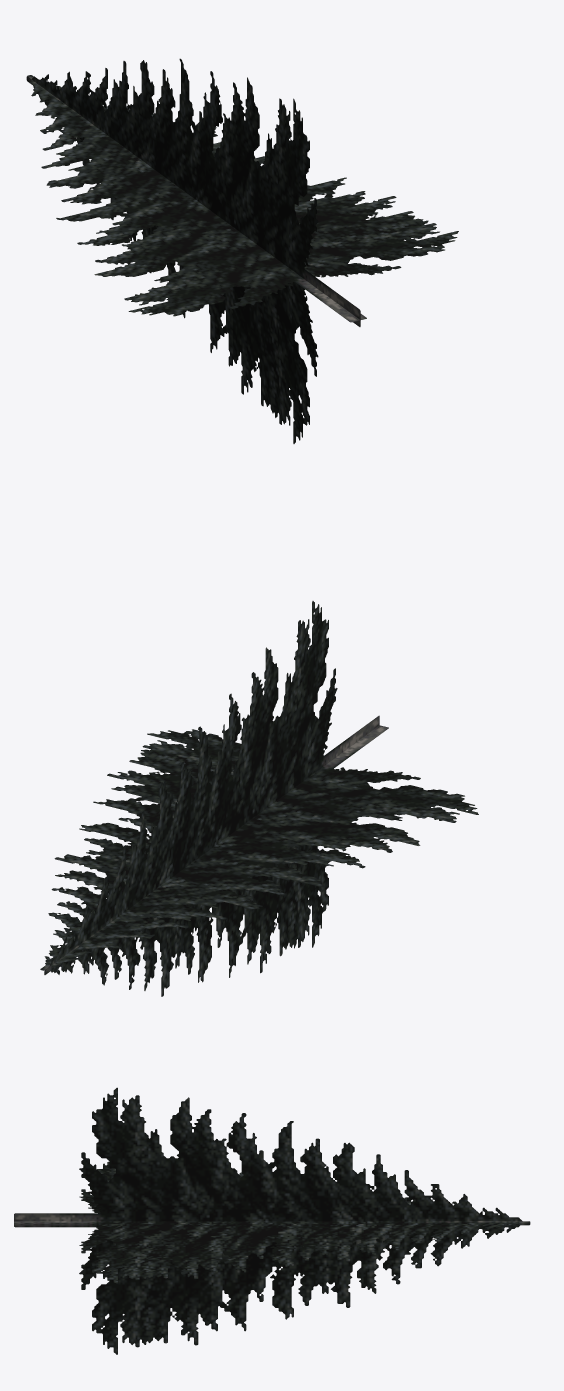
The model's file is SM_EC_Tree_Cross_02.fbx.
The picture shows the model from 3 angles, top to bottom: view 1: azimuth 30°, elevation 25°; view 2: azimuth 150°, elevation 25°; view 3: azimuth 270°, elevation 25°; orthographic projection. The views are drawn at different scales.
Visible parts, largest first — view 1: SM_EC_Tree_Cross_02; view 2: SM_EC_Tree_Cross_02; view 3: SM_EC_Tree_Cross_02.
Boxes of the visible parts, x1=… form: SM_EC_Tree_Cross_02: x1=26, y1=58, x2=458, y2=443; SM_EC_Tree_Cross_02: x1=40, y1=601, x2=478, y2=996; SM_EC_Tree_Cross_02: x1=14, y1=1087, x2=530, y2=1354.
Size of the model in its own units: 2.34 by 3.86 by 2.34.
